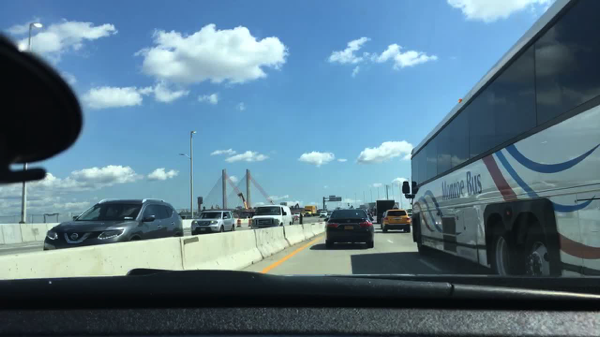bus: (402, 0, 599, 277)
car: (44, 199, 184, 251), (323, 208, 374, 249), (190, 210, 235, 235), (250, 206, 293, 228), (380, 204, 411, 234), (365, 210, 374, 220), (406, 212, 413, 224), (319, 210, 327, 219), (293, 213, 301, 218), (328, 210, 332, 215)
traffic sign: (329, 195, 341, 202), (279, 203, 287, 206)
truck: (375, 200, 396, 224), (302, 205, 318, 217)
